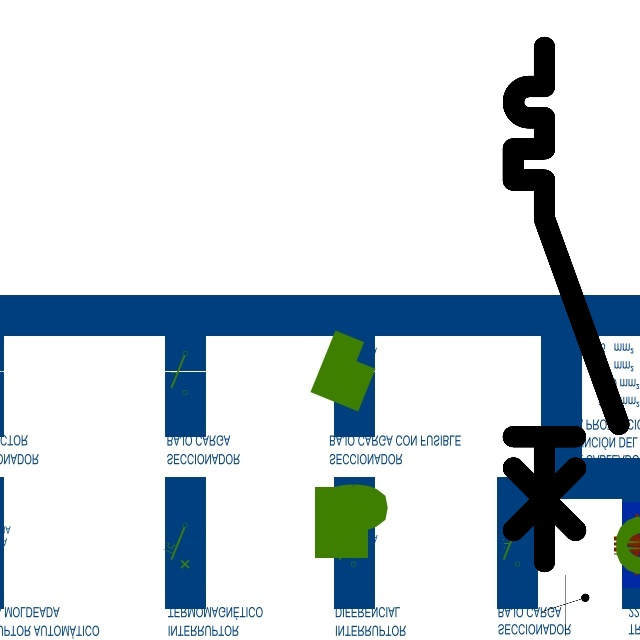interruptor_termomagnetico: (500, 34, 632, 575)
